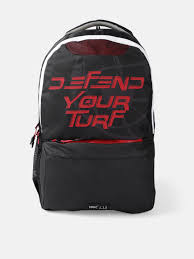backpack: (30, 19, 156, 213)
